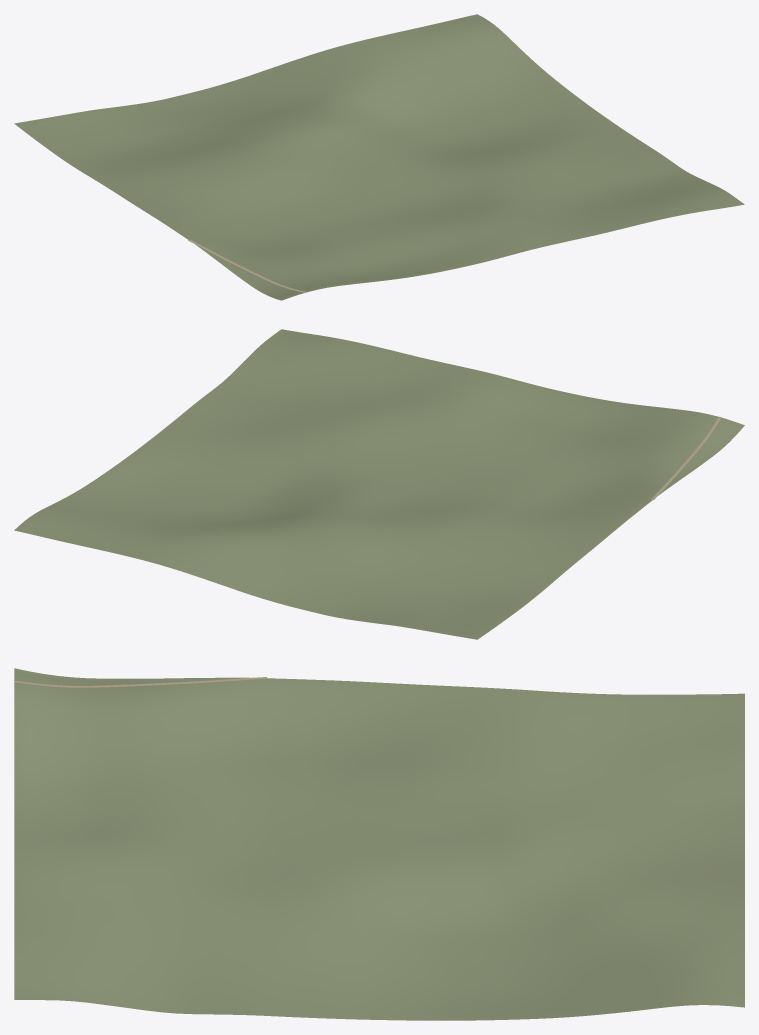
3 renders of one model, top to bottom at view 1: azimuth 30°, elevation 25°; view 2: azimuth 150°, elevation 25°; view 3: azimuth 270°, elevation 25°, orthographic. The views are drawn at different scales.
Visible parts, largest first — view 1: ground; view 2: ground; view 3: ground, path.
Boxes of the visible parts, x1,y1,x2,y2 form: ground: (14,14,744,300); ground: (14,329,744,639); ground: (14,668,744,1020); path: (14,677,267,687).
Bounding box in the file's own units: 251 × 19.43 × 250.
